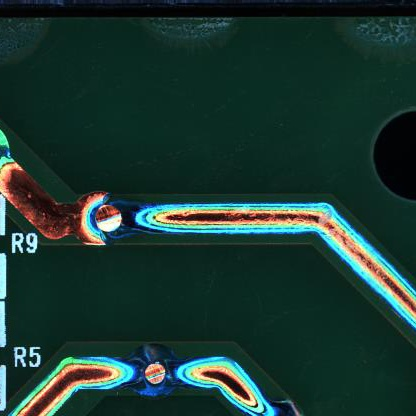spot: (72, 187, 129, 247), (130, 343, 179, 399)
